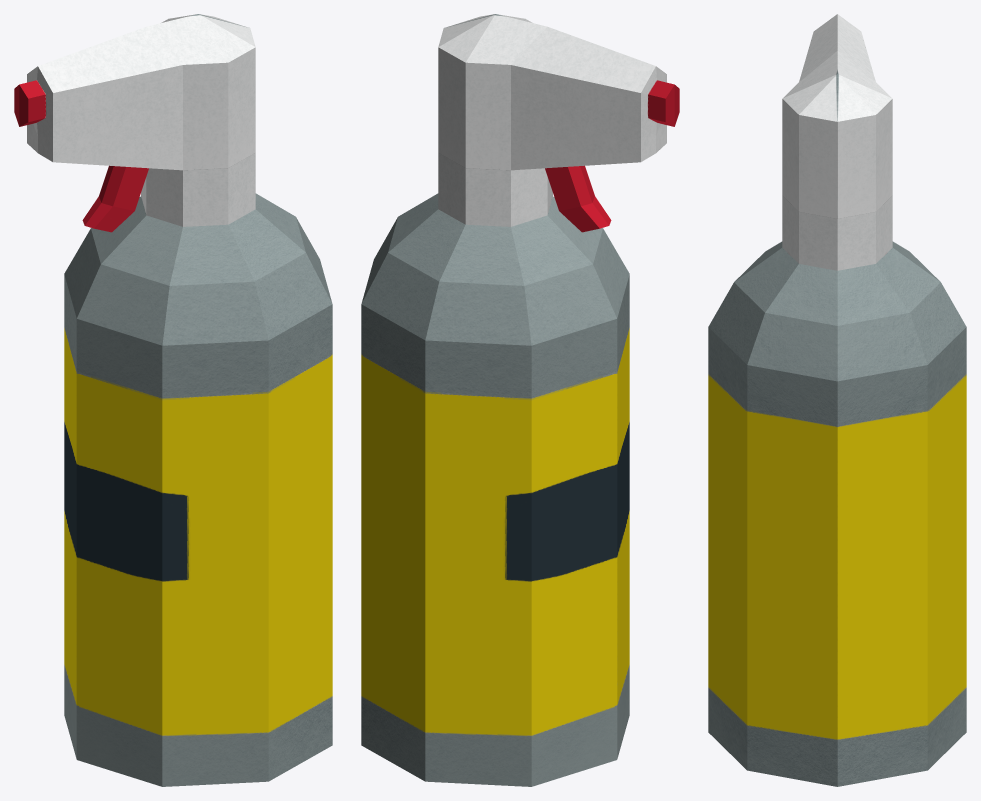
File: spraybottle.gltf
The picture shows the model from 3 angles, left to right: view 1: azimuth 30°, elevation 25°; view 2: azimuth 150°, elevation 25°; view 3: azimuth 270°, elevation 25°; orthographic projection. The views are drawn at different scales.
Visible parts, largest first — view 1: spraybottle; view 2: spraybottle; view 3: spraybottle.
Boxes of the visible parts, bbox=[...] form: spraybottle: bbox=[14, 14, 332, 786]; spraybottle: bbox=[361, 14, 679, 786]; spraybottle: bbox=[708, 14, 966, 786].
Bounding box in the file's own units: 0.1644 × 0.374 × 0.1329.
Materials: 1 (1 with a texture image).
